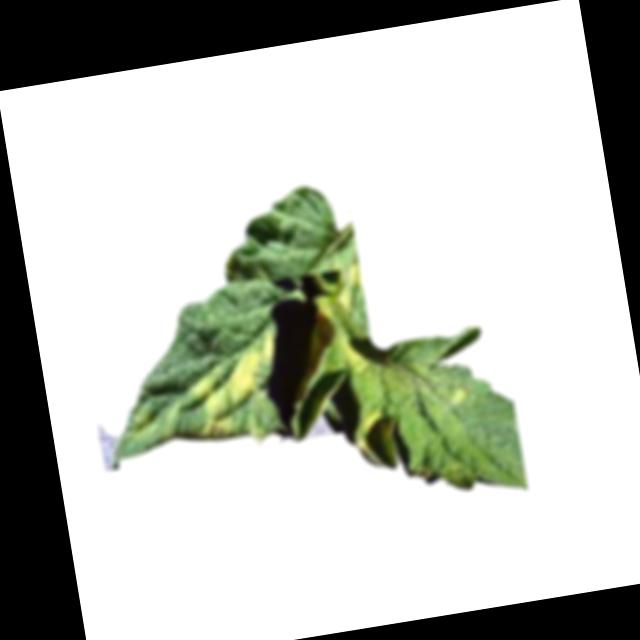Leaf_Mold: (180, 320, 290, 447), (282, 262, 375, 382), (353, 405, 387, 438)
